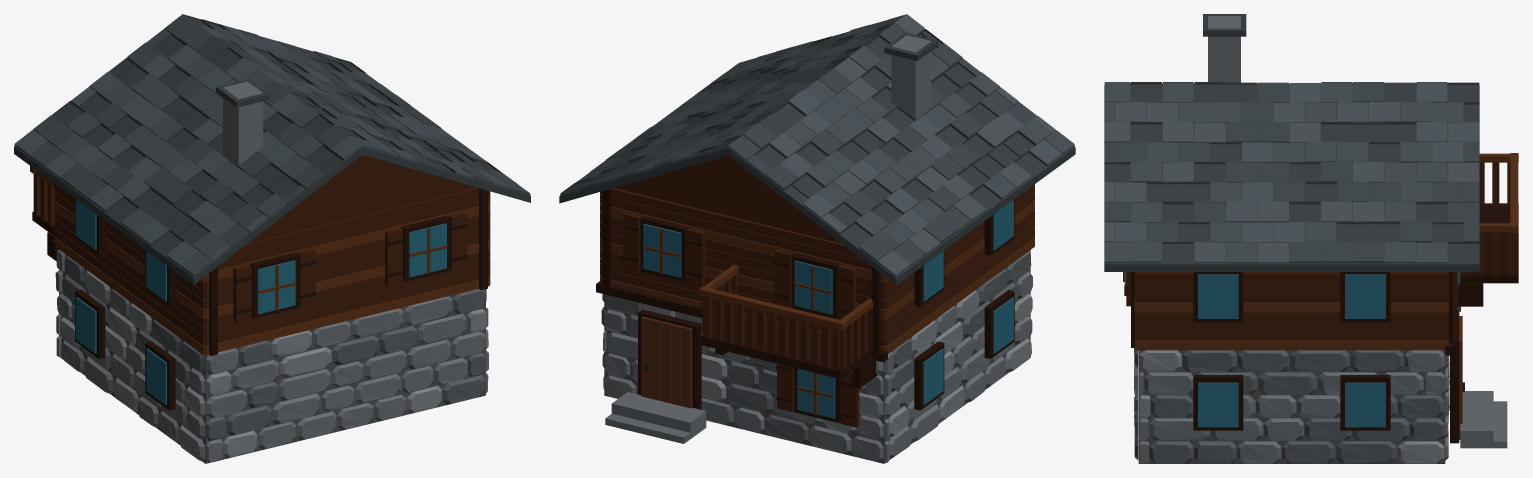
The model's file is Baita_Antica_Bruna.obj.
3 views of the same model, side by side, from view 1: azimuth 30°, elevation 25°; view 2: azimuth 150°, elevation 25°; view 3: azimuth 270°, elevation 25° (orthographic). The views are drawn at different scales.
Parts seen in each view (by area): view 1: Lastre_Pietra, Pietre_Facciata_2, Tavole_Orizzontali, Pietre_Facciata_3, Frontoni_Legno, Nucleo_Piano_Terra, Tetto_Base, Persiane, Vetro_Laterale, Vetro, Cornice_Laterale, Camino (+6 smaller); view 2: Lastre_Pietra, Tavole_Orizzontali, Pietre_Facciata_1, Pietre_Facciata_3, Frontoni_Legno, Persiane, Listelli_Parapetto, Vetro, Tetto_Base, Tavole_Porta, Vetro_Laterale, Gradini (+15 smaller); view 3: Lastre_Pietra, Pietre_Facciata_4, Tavole_Orizzontali, Vetro_Laterale, Tetto_Base, Nucleo_Piano_Terra, Cornice_Laterale, Gradini, Pavimento_Balcone, Camino, Listelli_Laterali, Cornice_Porta (+8 smaller).
Part boxes in pixels (x1=…): Lastre_Pietra: x1=14, y1=14, x2=530, y2=276; Pietre_Facciata_2: x1=206, y1=289, x2=486, y2=462; Tavole_Orizzontali: x1=54, y1=184, x2=490, y2=355; Pietre_Facciata_3: x1=55, y1=249, x2=205, y2=461; Frontoni_Legno: x1=249, y1=155, x2=474, y2=242; Nucleo_Piano_Terra: x1=59, y1=254, x2=485, y2=463; Tetto_Base: x1=14, y1=146, x2=530, y2=285; Persiane: x1=233, y1=212, x2=467, y2=323; Vetro_Laterale: x1=75, y1=199, x2=166, y2=404; Vetro: x1=257, y1=223, x2=446, y2=314; Cornice_Laterale: x1=75, y1=199, x2=175, y2=410; Camino: x1=223, y1=81, x2=263, y2=165; Lastre_Pietra: x1=560, y1=14, x2=1074, y2=276; Tavole_Orizzontali: x1=600, y1=184, x2=1034, y2=353; Pietre_Facciata_1: x1=603, y1=294, x2=883, y2=462; Pietre_Facciata_3: x1=884, y1=251, x2=1032, y2=462; Frontoni_Legno: x1=615, y1=155, x2=840, y2=242; Persiane: x1=623, y1=212, x2=859, y2=427; Listelli_Parapetto: x1=704, y1=296, x2=840, y2=369; Vetro: x1=643, y1=223, x2=835, y2=418; Tetto_Base: x1=559, y1=146, x2=1075, y2=285; Tavole_Porta: x1=641, y1=316, x2=692, y2=408; Vetro_Laterale: x1=923, y1=200, x2=1013, y2=405; Gradini: x1=605, y1=392, x2=706, y2=443; Lastre_Pietra: x1=1104, y1=82, x2=1479, y2=263; Pietre_Facciata_4: x1=1139, y1=350, x2=1444, y2=463; Tavole_Orizzontali: x1=1134, y1=272, x2=1448, y2=350; Vetro_Laterale: x1=1198, y1=274, x2=1385, y2=427; Tetto_Base: x1=1104, y1=85, x2=1479, y2=271; Nucleo_Piano_Terra: x1=1138, y1=350, x2=1445, y2=463; Cornice_Laterale: x1=1193, y1=272, x2=1390, y2=430; Gradini: x1=1460, y1=391, x2=1507, y2=448; Pavimento_Balcone: x1=1459, y1=203, x2=1518, y2=283; Camino: x1=1208, y1=16, x2=1240, y2=82; Listelli_Laterali: x1=1463, y1=162, x2=1513, y2=275; Cornice_Porta: x1=1450, y1=310, x2=1459, y2=443.
Bounding box in the file's own units: 7.7 × 7.07 × 7.84.
